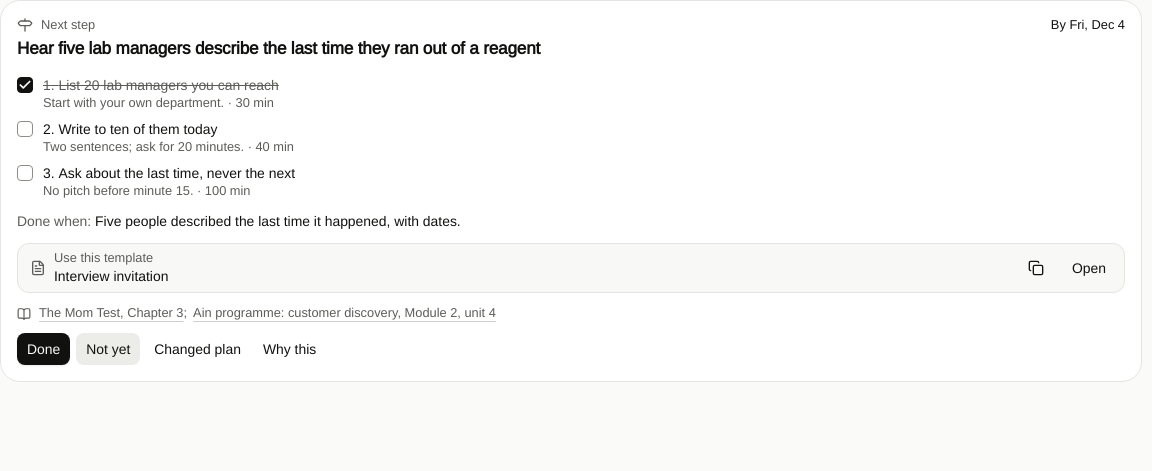
Test: StepCard › Done asks for one line of evidence, and only saves with it
The image size is (1152, 471).
Click the button "Done" at (44,349), box 17,333 -> 70,365
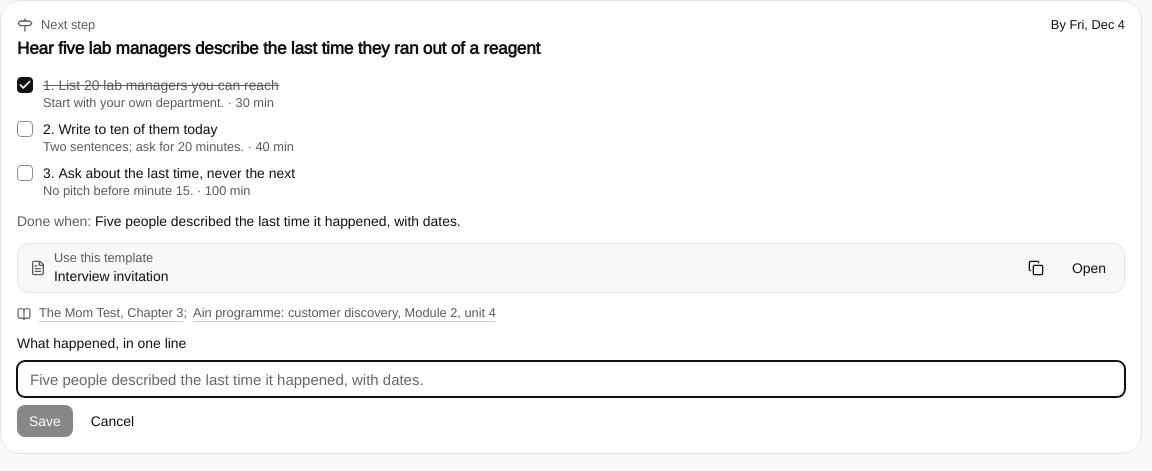
Now the button "Save" is disabled, box 17,405 -> 73,437
Type "Five calls, all ran out in October." into the field labelled "What happened, in one line" at (571,379), box 17,361 -> 1125,397
Then press Enter
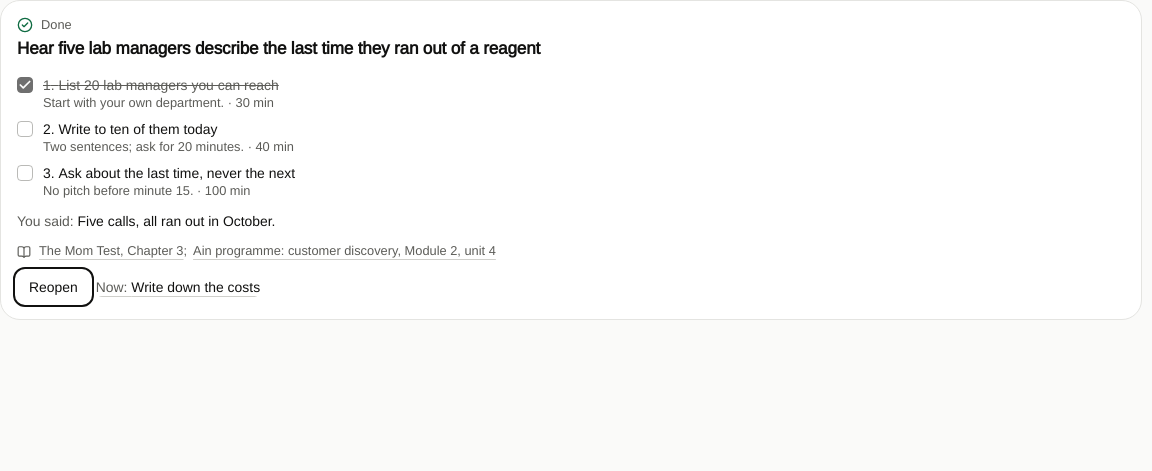
Expected: the button "Not yet" is not shown
Now the text "Five calls, all ran out in October." is shown, box 78,213 -> 276,229
Now the button "Reopen" is shown, box 17,271 -> 90,303
